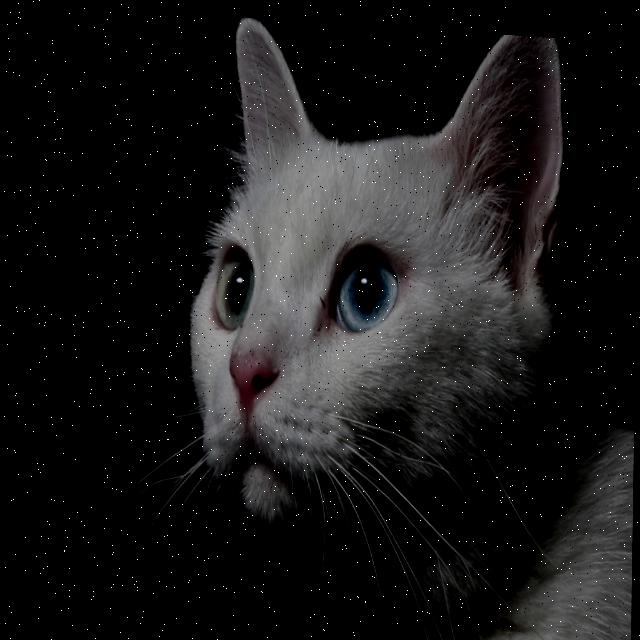Khao Manee: (179, 10, 640, 640)
